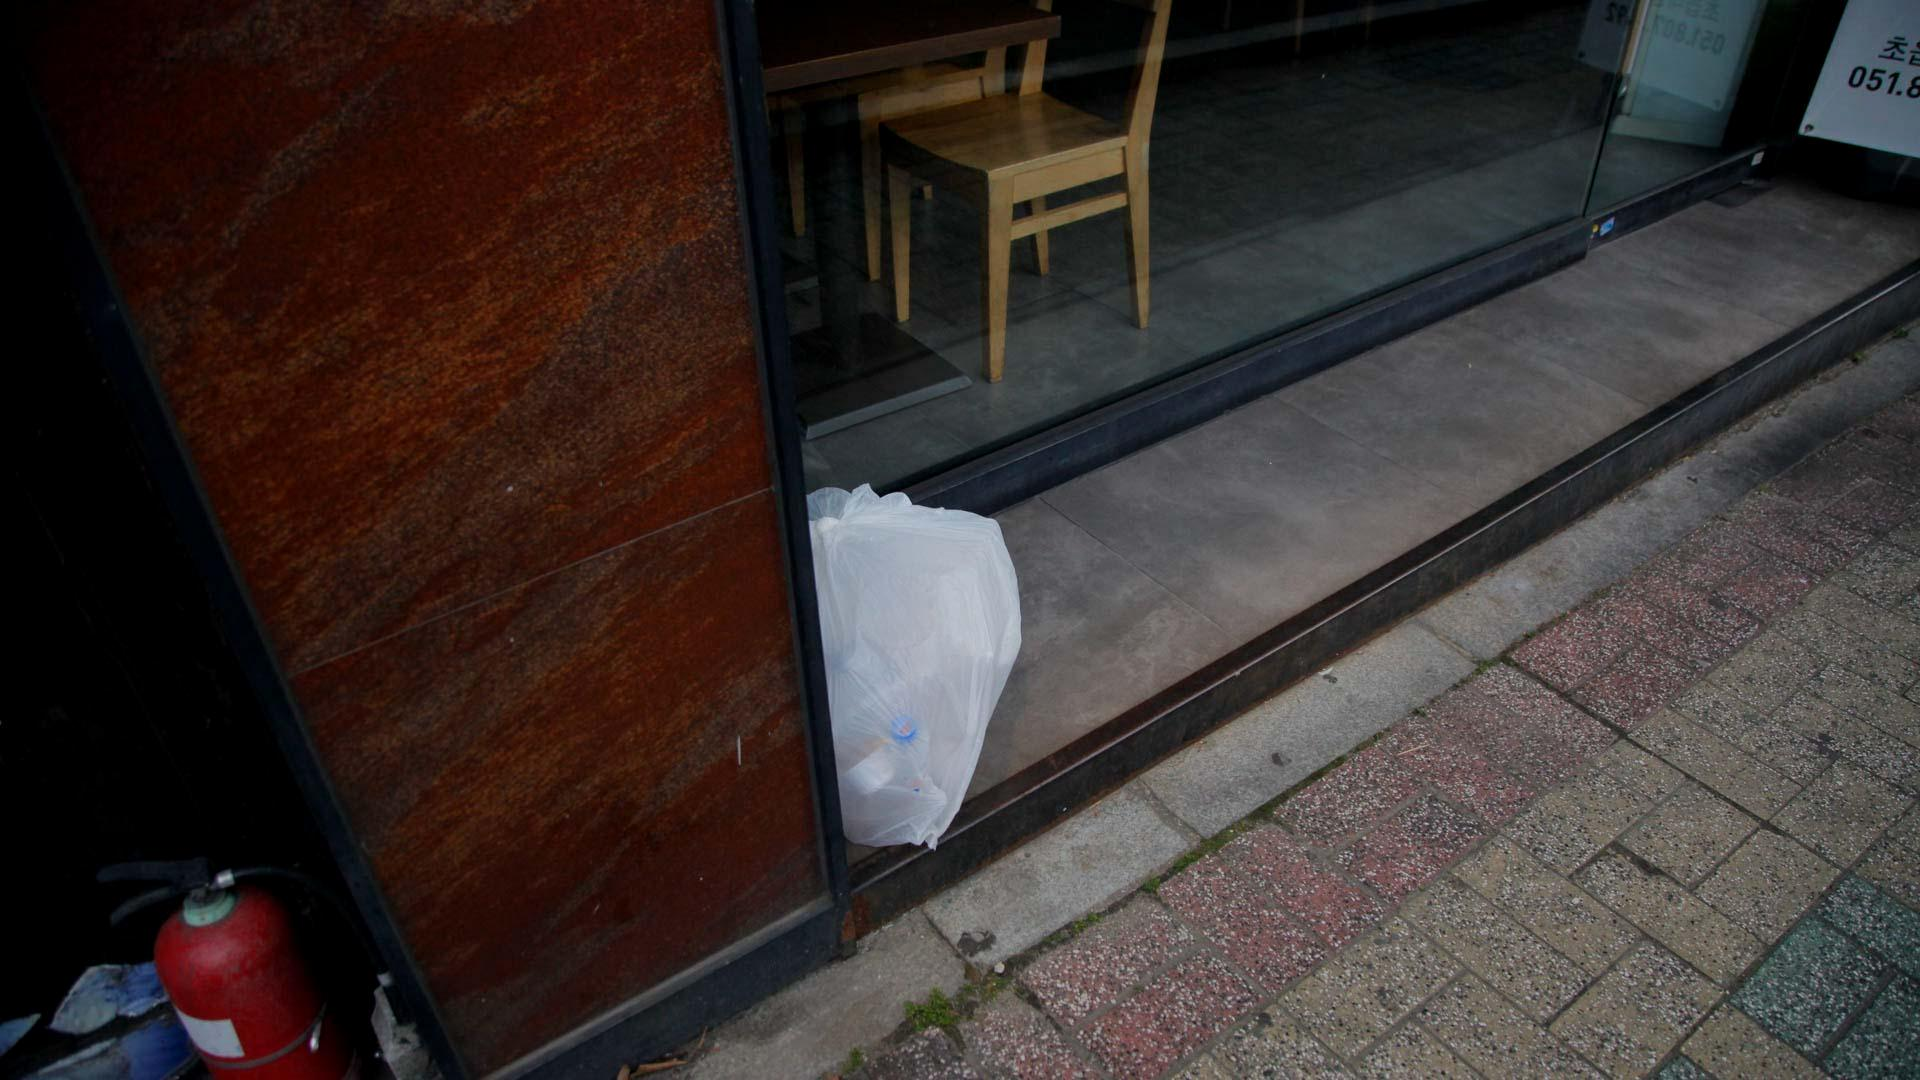white_bag: (777, 479, 1036, 865)
